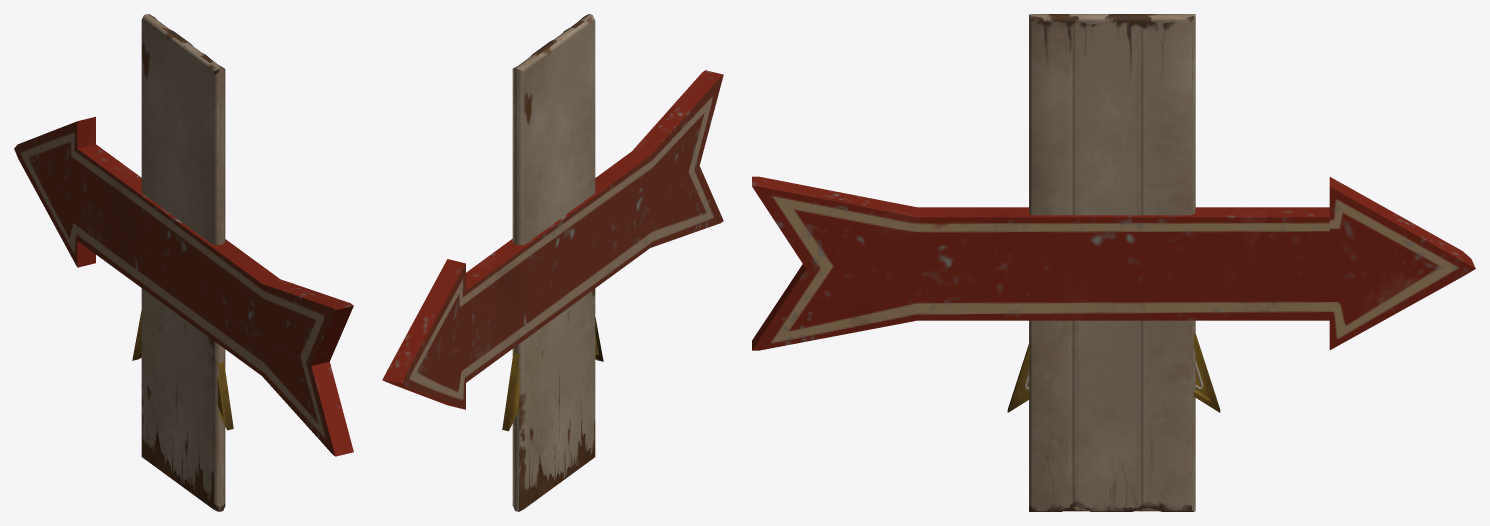
Rendered from SignsGRP.fbx.
3 views of the same model, side by side, from view 1: azimuth 30°, elevation 25°; view 2: azimuth 150°, elevation 25°; view 3: azimuth 270°, elevation 25° (orthographic). The views are drawn at different scales.
Visible parts, largest first — view 1: ArrowSign, GenericSign, GenericSign_Chipped, StarSign, ArrowLight_Sign; view 2: ArrowSign, GenericSign, StarSign, ArrowLight_Sign, GenericSign_Chipped; view 3: ArrowSign, GenericSign_Chipped, GenericSign, StarSign.
Part boxes in pixels (x1,y1,x2,y2): ArrowSign: (14,119,353,456); GenericSign: (141,14,221,511); GenericSign_Chipped: (148,14,225,511); StarSign: (132,310,233,430); ArrowLight_Sign: (86,116,350,306); ArrowSign: (382,70,723,409); GenericSign: (513,14,595,511); StarSign: (502,317,603,431); ArrowLight_Sign: (634,72,711,148); GenericSign_Chipped: (512,14,592,505); ArrowSign: (752,176,1475,350); GenericSign_Chipped: (1029,14,1194,511); GenericSign: (1030,14,1195,511); StarSign: (1007,331,1220,412).
Size of the model in its own units: 4.65 by 107 by 141.
